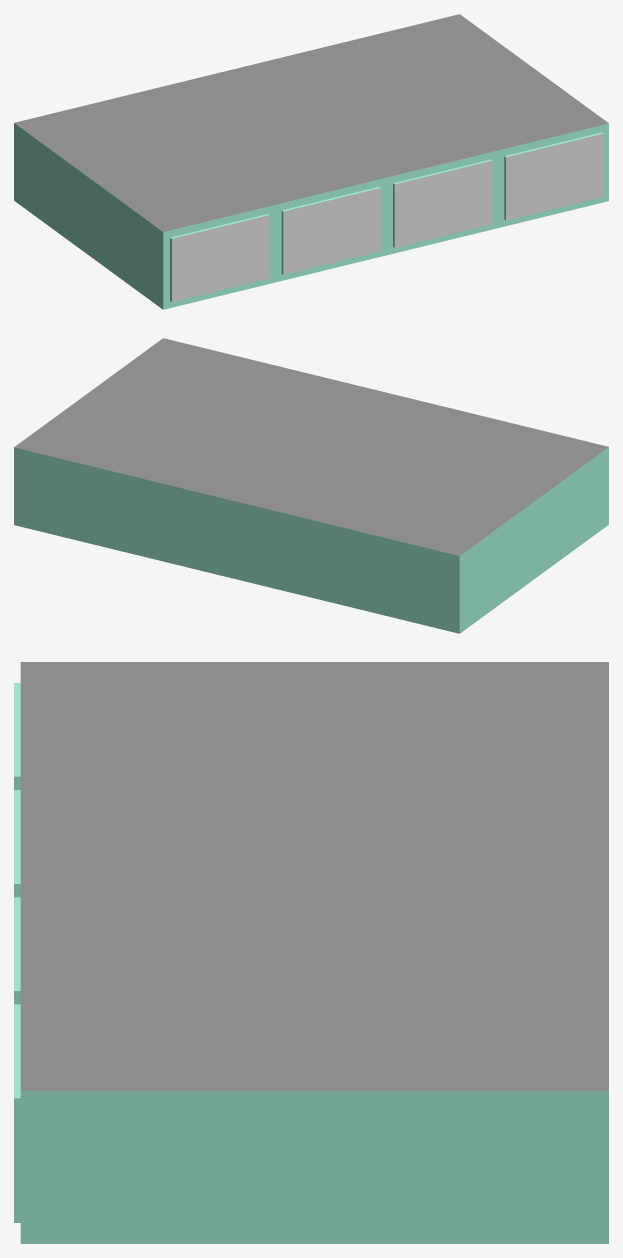
The model's file is Diorama.fbx.
3 views of the same model, one above another, from view 1: azimuth 30°, elevation 25°; view 2: azimuth 150°, elevation 25°; view 3: azimuth 270°, elevation 25° (orthographic). The views are drawn at different scales.
Parts seen in each view (by area): view 1: Lid, Display, Walls; view 2: Lid, Walls; view 3: Lid, Walls, Display.
Part boxes in pixels (x1,y1,x2,y2): Lid: (14, 14, 608, 231); Display: (163, 123, 608, 309); Walls: (14, 123, 163, 309); Lid: (14, 338, 608, 555); Walls: (14, 447, 608, 633); Lid: (20, 662, 608, 1090); Walls: (20, 1090, 608, 1243); Display: (14, 683, 20, 1222).
Bounding box in the file's own units: 24 × 4 × 14.08.
